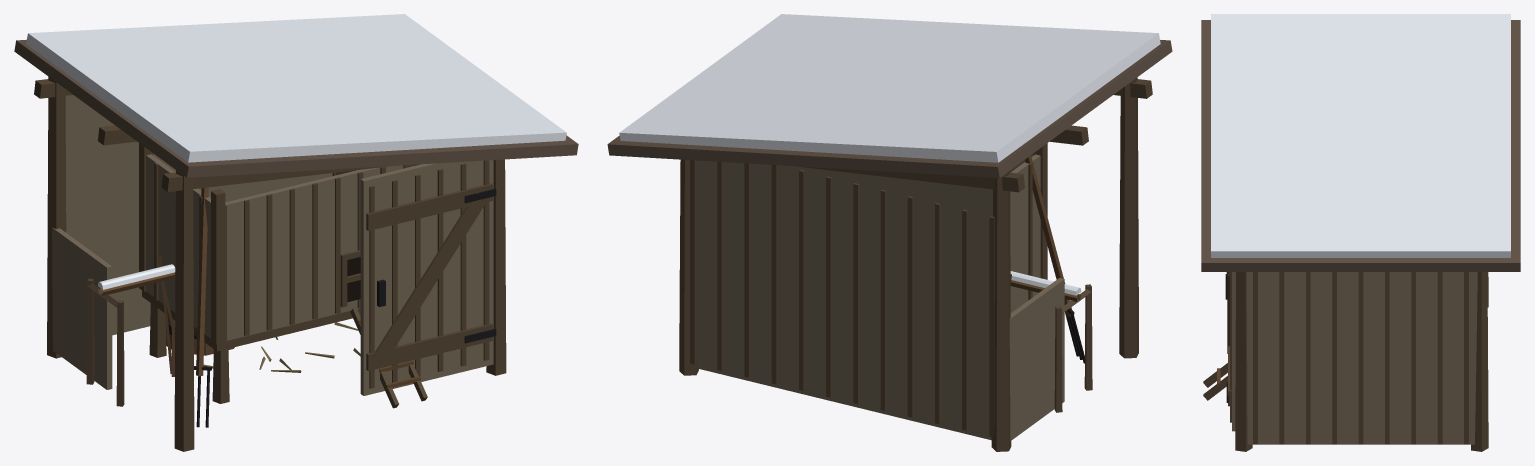
File: fuellung_hof2.glb
3 views of the same model, side by side, from view 1: azimuth 30°, elevation 25°; view 2: azimuth 150°, elevation 25°; view 3: azimuth 270°, elevation 25° (orthographic). The views are drawn at different scales.
Parts seen in each view (by area): view 1: Schuppen, Schuppen_Winter, Huehnerstall, Huehnerstall_Winter; view 2: Schuppen, Schuppen_Winter, Huehnerstall; view 3: Schuppen_Winter, Schuppen, Huehnerstall.
Part boxes in pixels (left/top/right/bottom): Schuppen: left=14, top=39, right=578, bottom=451; Schuppen_Winter: left=26, top=14, right=566, bottom=162; Huehnerstall: left=86, top=143, right=427, bottom=408; Huehnerstall_Winter: left=98, top=264, right=175, bottom=289; Schuppen: left=607, top=40, right=1172, bottom=451; Schuppen_Winter: left=619, top=14, right=1160, bottom=162; Huehnerstall: left=1010, top=143, right=1092, bottom=412; Schuppen_Winter: left=1211, top=14, right=1510, bottom=257; Schuppen: left=1201, top=20, right=1520, bottom=451; Huehnerstall: left=1203, top=363, right=1227, bottom=400.
Bounding box in the file's own units: 3.01 × 2.29 × 2.3.
